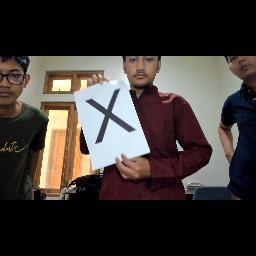x: (83, 86, 141, 146)
